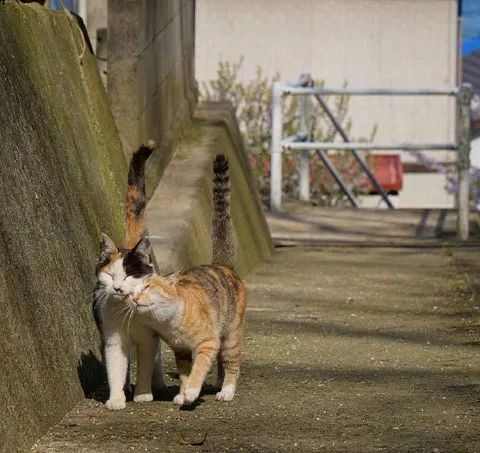cat: (128, 155, 249, 406), (92, 140, 161, 411)
